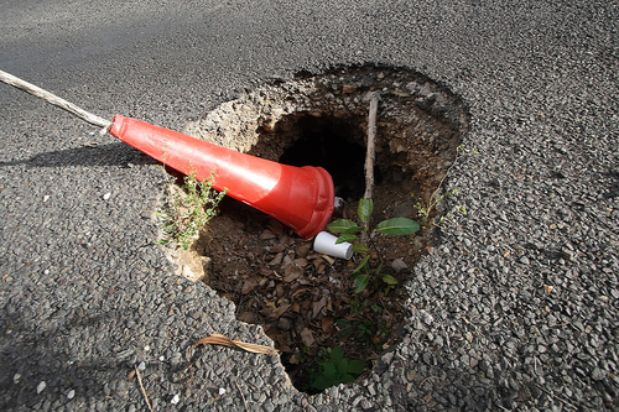pothole: (150, 56, 478, 400)
